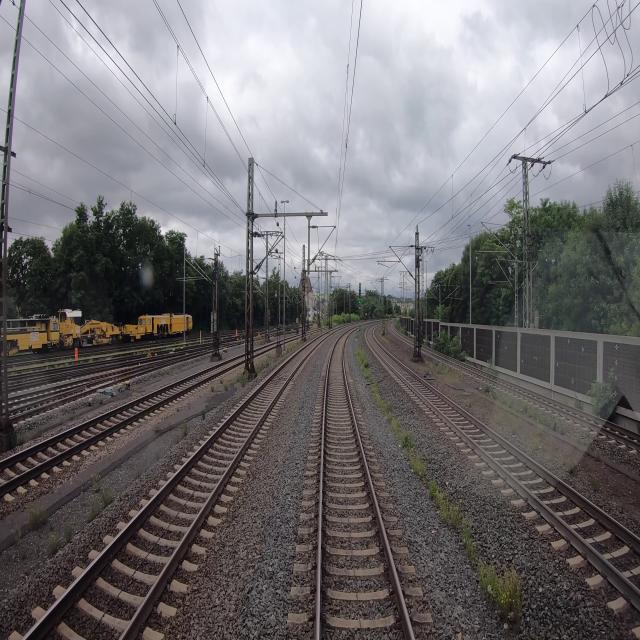Plant: (351, 336, 536, 625), (235, 336, 312, 393), (490, 404, 548, 456), (83, 462, 126, 522), (421, 352, 465, 386), (6, 515, 32, 568), (46, 516, 77, 560), (500, 393, 547, 421), (556, 444, 582, 483), (25, 492, 50, 531), (130, 455, 151, 486), (430, 344, 466, 362), (589, 473, 607, 496), (478, 378, 496, 400), (177, 418, 192, 439), (151, 414, 165, 436), (220, 370, 233, 392), (588, 404, 609, 417), (196, 403, 209, 422), (207, 381, 220, 399), (592, 447, 604, 465), (394, 321, 408, 336), (571, 398, 586, 411), (378, 323, 386, 335)
